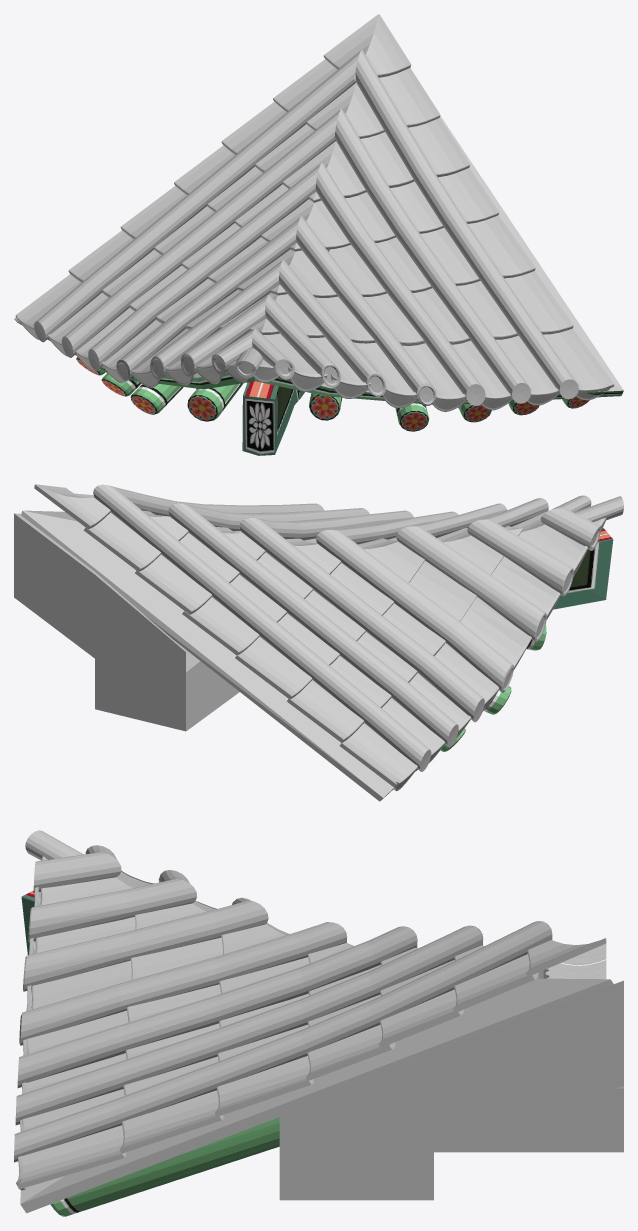
File: SM_R_RoofCorner_18.fbx
3 views of the same model, one above another, from view 1: azimuth 30°, elevation 25°; view 2: azimuth 150°, elevation 25°; view 3: azimuth 270°, elevation 25° (orthographic). The views are drawn at different scales.
Parts seen in each view (by area): view 1: SM_R_RoofCorner_18_LOD0; view 2: SM_R_RoofCorner_18_LOD0; view 3: SM_R_RoofCorner_18_LOD0.
Boxes of the visible parts, x1,y1,x2,y2 form: SM_R_RoofCorner_18_LOD0: [14, 14, 623, 455]; SM_R_RoofCorner_18_LOD0: [14, 484, 623, 801]; SM_R_RoofCorner_18_LOD0: [14, 830, 623, 1216].
Bounding box in the file's own units: 268 × 296 × 164.
